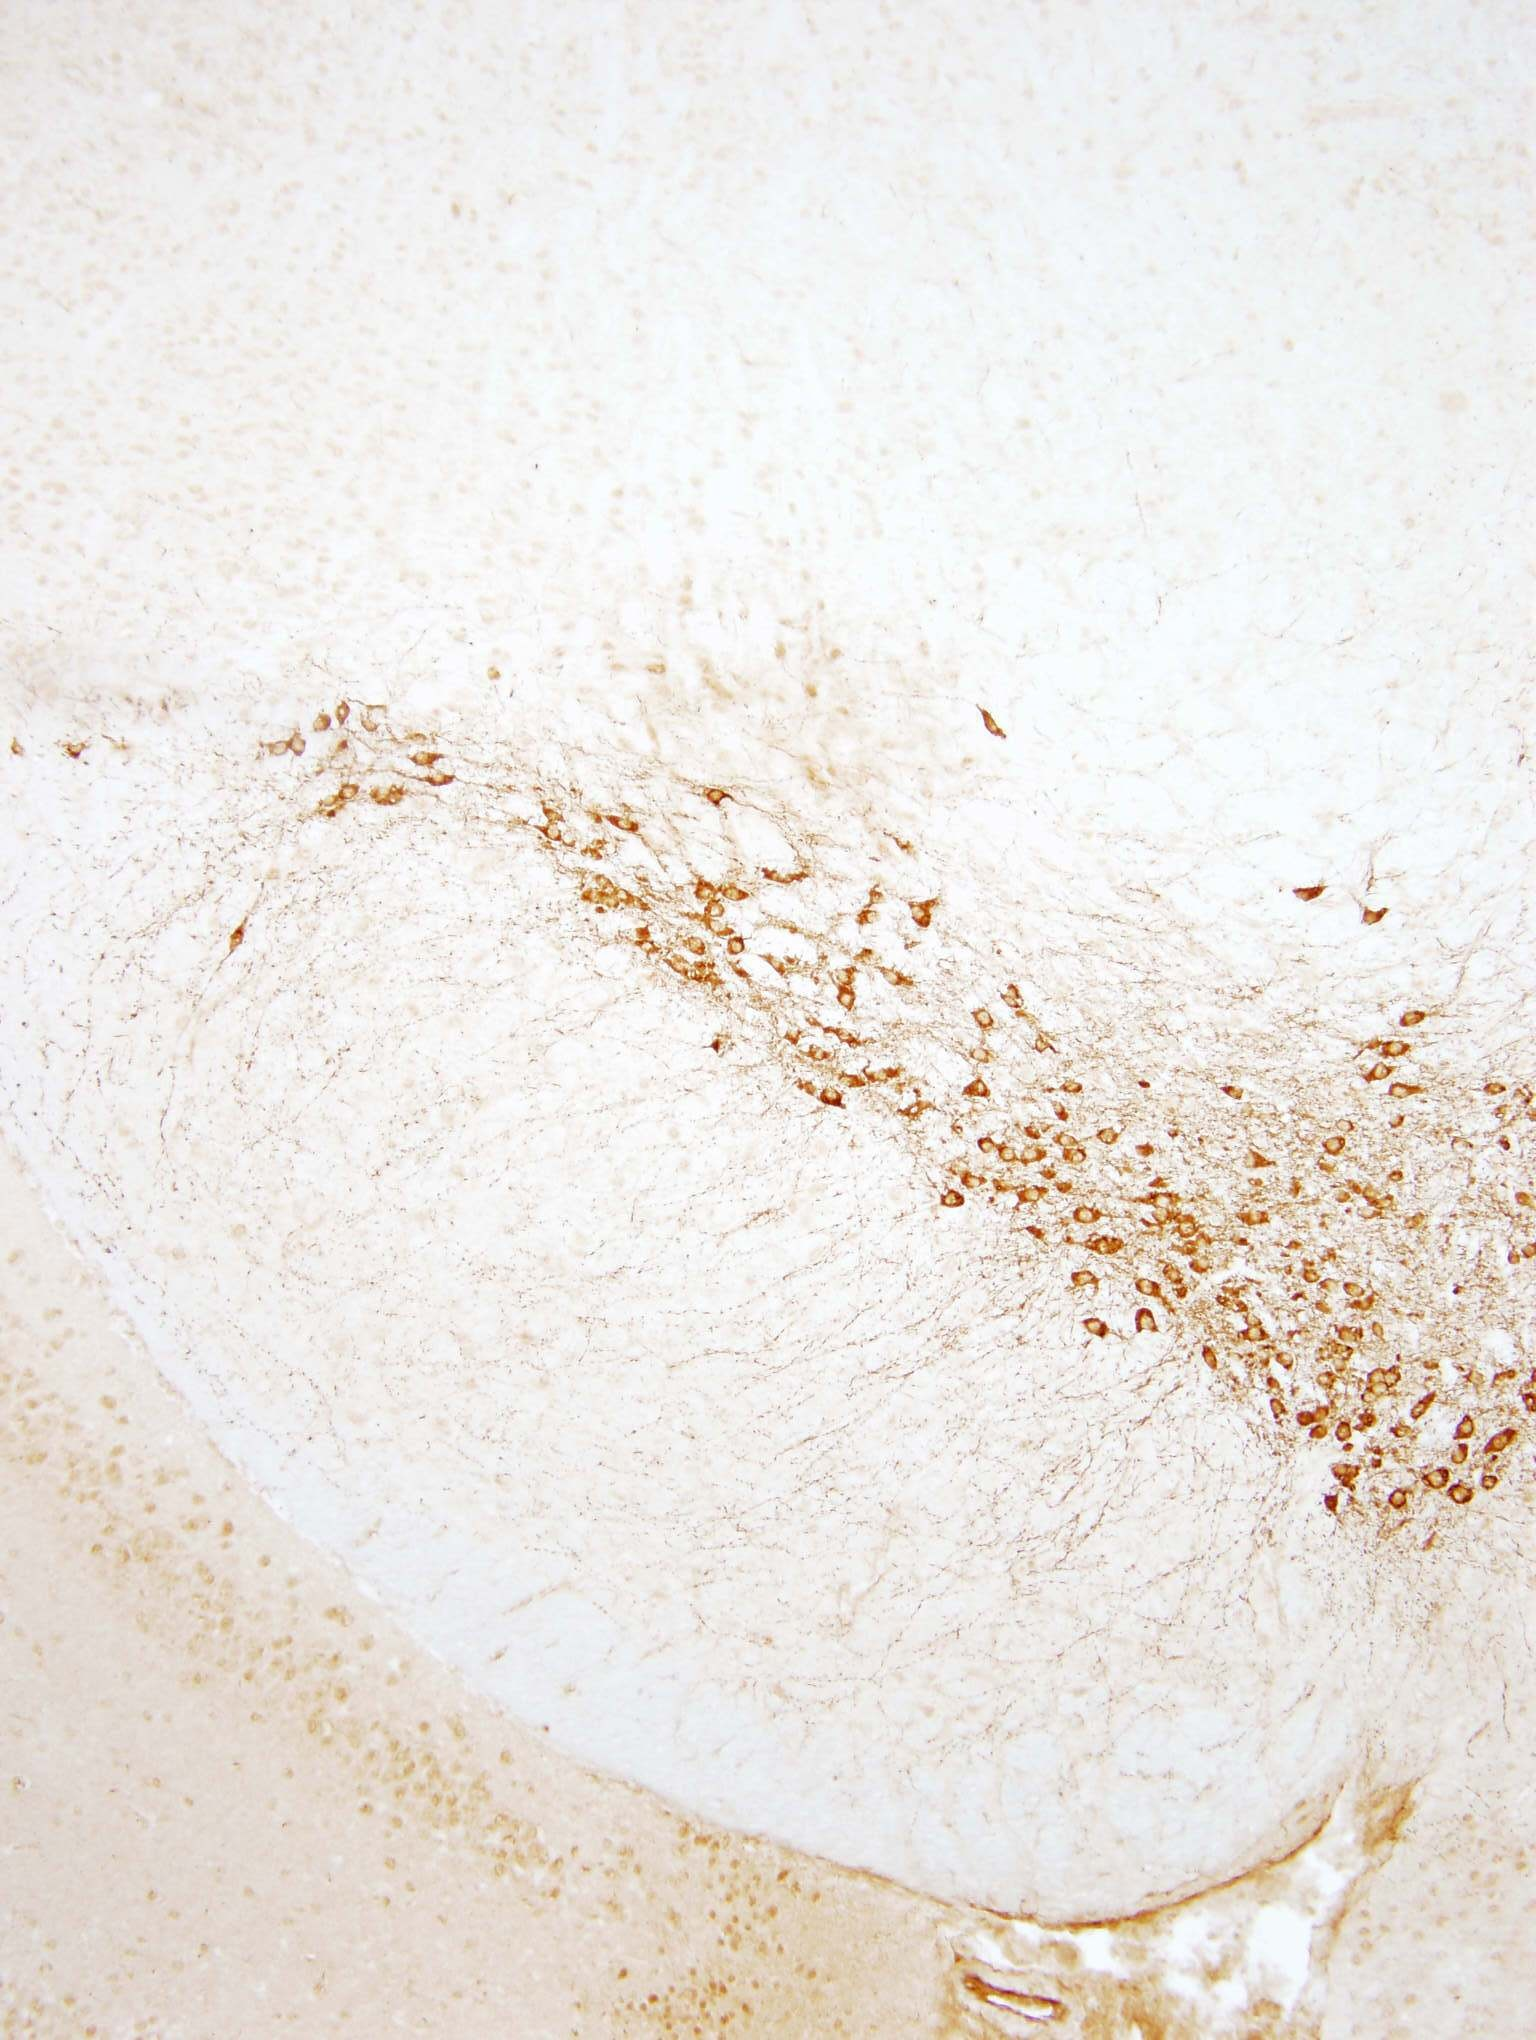neuron: (1418, 1463, 1455, 1500), (1442, 1476, 1480, 1513), (1354, 898, 1389, 935), (1379, 1480, 1415, 1518), (1396, 1001, 1431, 1039), (1286, 877, 1321, 913), (1000, 982, 1025, 1006), (1021, 1145, 1046, 1169), (1021, 1185, 1046, 1209), (1050, 1100, 1075, 1124), (1063, 1151, 1087, 1176), (1073, 1268, 1097, 1292), (1075, 1206, 1099, 1230), (1092, 1234, 1117, 1258), (1096, 1124, 1120, 1148), (1134, 1277, 1158, 1301), (1136, 1311, 1160, 1335), (1163, 1266, 1187, 1290), (1179, 1218, 1204, 1242), (1192, 1255, 1217, 1279), (1196, 1348, 1220, 1372), (1242, 1308, 1267, 1332), (1244, 1326, 1268, 1350), (1262, 1371, 1286, 1395), (1262, 1397, 1286, 1421), (1296, 1403, 1320, 1427), (1299, 1266, 1323, 1290), (1309, 1424, 1333, 1448), (1312, 1401, 1336, 1426), (1315, 1371, 1339, 1395), (1321, 1134, 1346, 1158), (1323, 1459, 1347, 1484), (1329, 1421, 1354, 1445), (1333, 1114, 1357, 1139), (1334, 1321, 1359, 1345), (1342, 1280, 1367, 1305), (1344, 1463, 1368, 1487), (1365, 1321, 1389, 1345), (1367, 1363, 1391, 1387), (1368, 1380, 1392, 1405), (1368, 1060, 1392, 1084), (1384, 1164, 1409, 1189), (1388, 1034, 1412, 1058), (1388, 1080, 1412, 1105), (1449, 1443, 1473, 1468), (1450, 1137, 1475, 1161), (1455, 1416, 1480, 1440), (1480, 1476, 1504, 1500), (1483, 1077, 1507, 1101), (1489, 1434, 1513, 1458), (1501, 1248, 1525, 1272), (1510, 1185, 1534, 1209), (287, 735, 311, 760), (307, 716, 331, 740), (332, 700, 357, 724), (336, 781, 360, 805), (424, 768, 449, 792), (544, 824, 568, 848), (615, 811, 639, 835), (686, 935, 710, 960), (705, 918, 729, 942), (721, 884, 745, 908), (724, 939, 749, 963), (807, 1040, 831, 1064), (821, 1085, 845, 1110), (829, 968, 854, 992), (834, 1026, 858, 1050), (879, 968, 904, 992), (900, 1100, 925, 1124), (907, 903, 931, 927), (937, 1189, 962, 1213), (962, 1172, 986, 1197), (971, 1006, 995, 1030), (994, 1143, 1018, 1168), (1033, 1032, 1055, 1056), (1058, 1126, 1083, 1148), (1060, 1076, 1084, 1098), (1083, 1318, 1105, 1342), (1150, 1192, 1175, 1214), (1241, 1206, 1263, 1230), (1355, 1205, 1379, 1227), (1383, 1369, 1405, 1393), (410, 747, 434, 769), (544, 801, 566, 826), (694, 879, 716, 903), (703, 897, 728, 919), (707, 784, 729, 808), (836, 992, 860, 1014), (841, 1071, 865, 1093), (968, 1042, 992, 1064), (970, 1079, 992, 1103), (975, 1134, 999, 1156), (1275, 1350, 1297, 1372)
